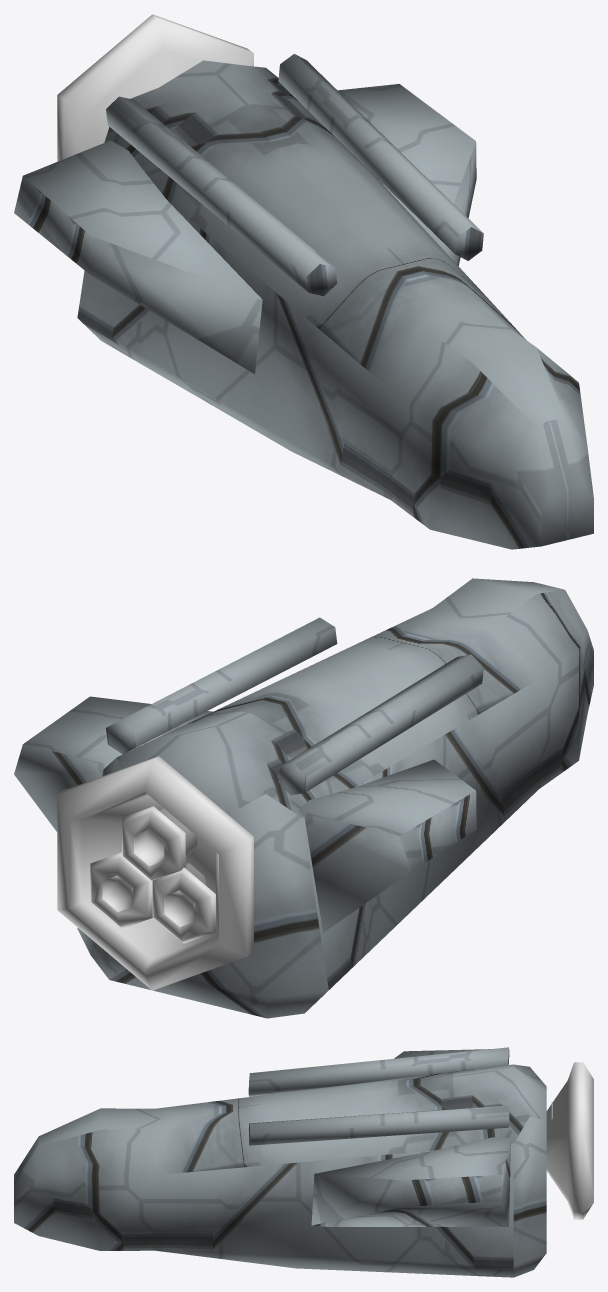
Rendered from shipV2.fbx.
The picture shows the model from 3 angles, top to bottom: view 1: azimuth 30°, elevation 25°; view 2: azimuth 150°, elevation 25°; view 3: azimuth 270°, elevation 25°; orthographic projection. The views are drawn at different scales.
Visible parts, largest first — view 1: Cube, Cylinder; view 2: Cube, Cylinder, Cylinder.001, Cylinder.002; view 3: Cube, Cylinder.
Part boxes in pixels (box(x1,y1,x2,y2)): Cube: box(14, 54, 593, 549); Cylinder: box(57, 14, 253, 161); Cube: box(14, 578, 593, 1018); Cylinder: box(57, 756, 253, 990); Cylinder.001: box(90, 852, 215, 943); Cylinder.002: box(122, 806, 197, 881); Cube: box(14, 1047, 546, 1277); Cylinder: box(546, 1062, 593, 1219).
Size of the model in its own units: 305 by 195 by 562.
